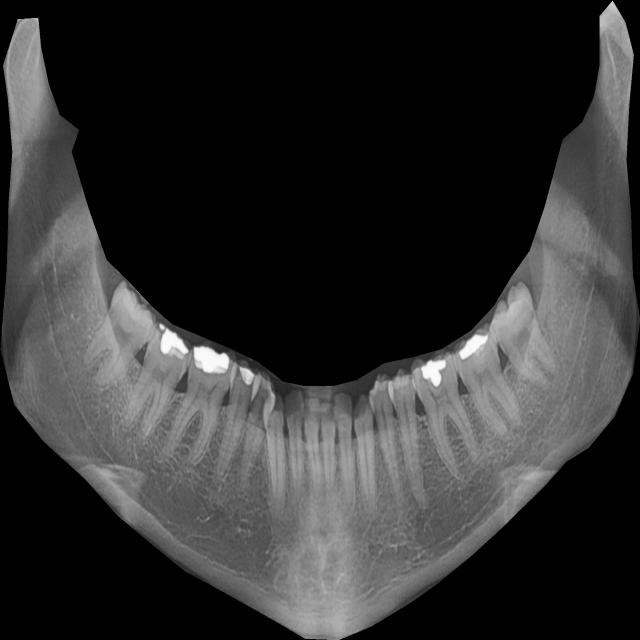mandibula: (0, 1, 640, 640)
